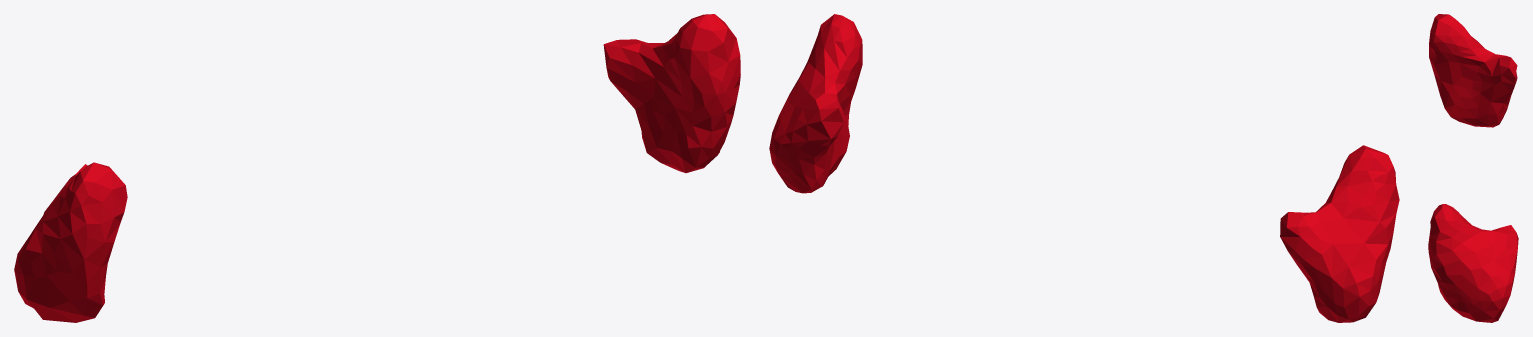
File: 203-La-lateral amygdaloid nucleus-('1.0000', '0.0000', '0.1137').obj
3 renders of one model, left to right at view 1: azimuth 30°, elevation 25°; view 2: azimuth 150°, elevation 25°; view 3: azimuth 270°, elevation 25°, orthographic. The views are drawn at different scales.
Bounding box in the file's own units: 171 × 42.07 × 29.96.
